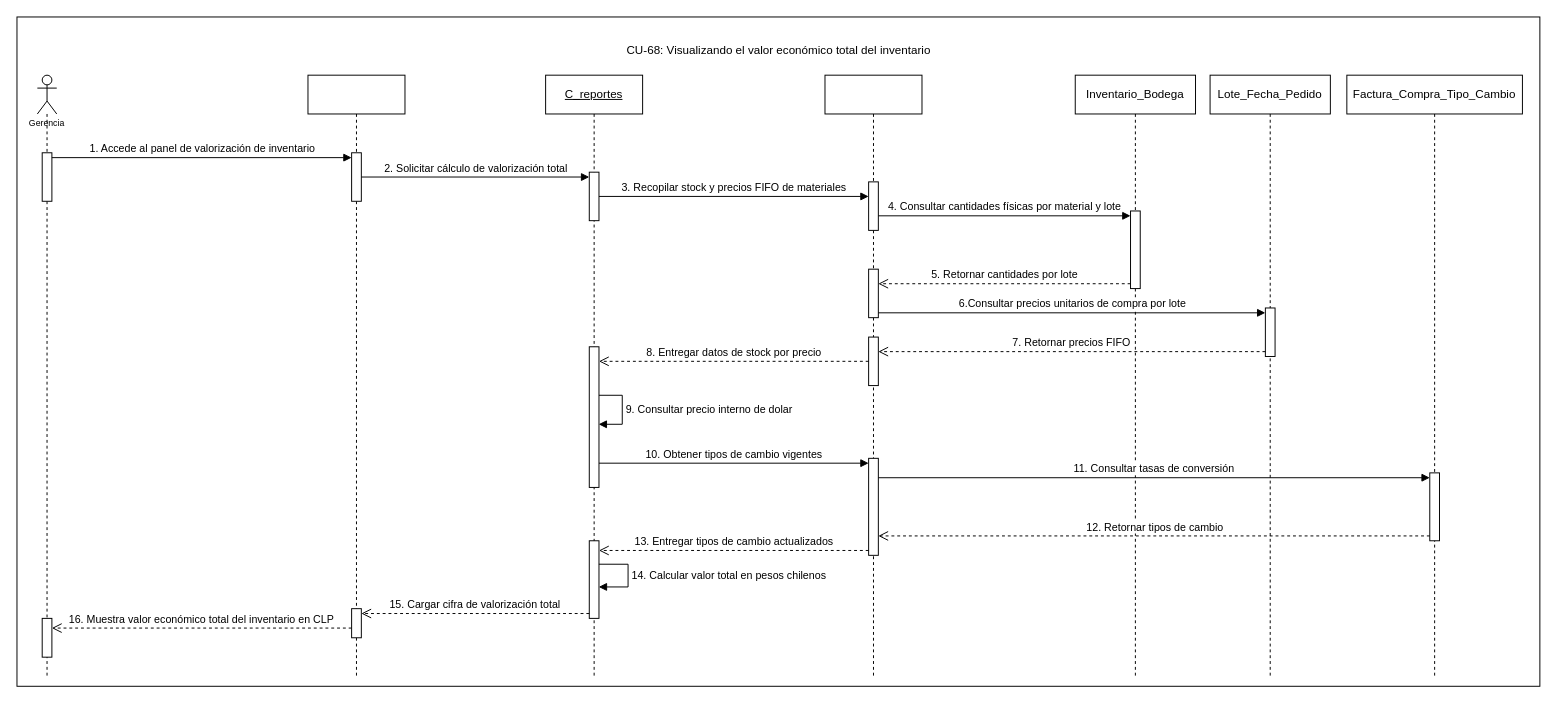
Image size: 1557x703. Some labels were removed from this diagram. The shapes that lost their labels are listed below. From the top down, each one's box as (x1, y1, x2, y2) in pixels, then its label:
(307, 74, 405, 677): V_Reportes
(824, 74, 922, 677): C_Postgre
